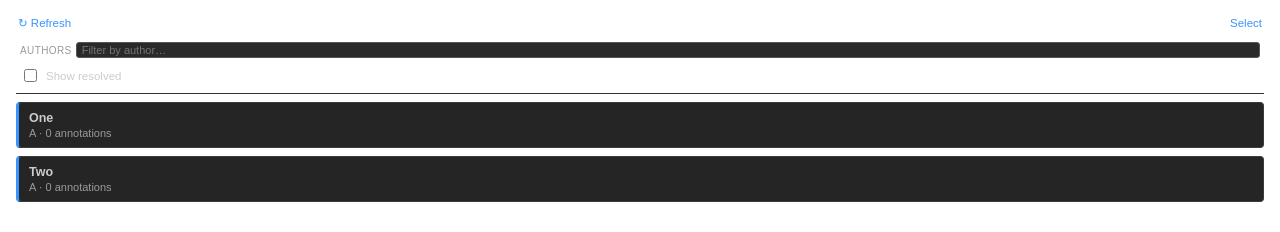
Scenario: App.svelte › enters bulk mode: shows the action bar, checkboxes, and a live count
Click the button with test id "bulk-toggle" at [1246, 23], box [1230,17,1262,29]
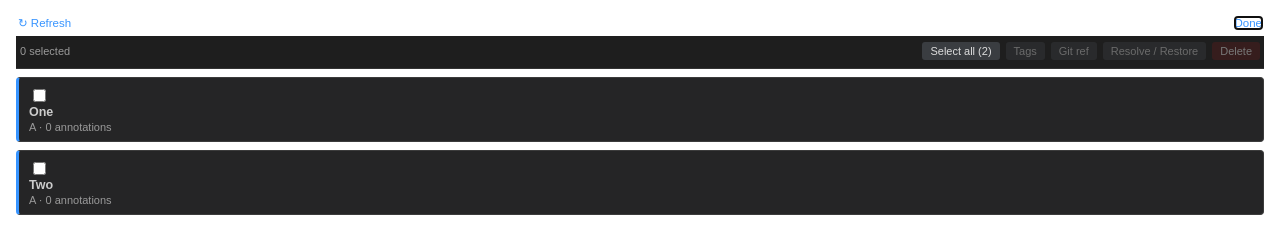
Expected: the element with test id "bulk-action-bar" is shown, [16,36,1264,69]
Expected: the number of checkboxes with test id "bulk-checkbox" is 2, [33,89,46,102]; [33,162,46,175]
Expected: the text with test id "bulk-count" reads "0 selected", [20,45,70,57]
Click the button with test id "group-card" showing "One A · 0 annotations" at [70, 127], box [16,77,1264,142]
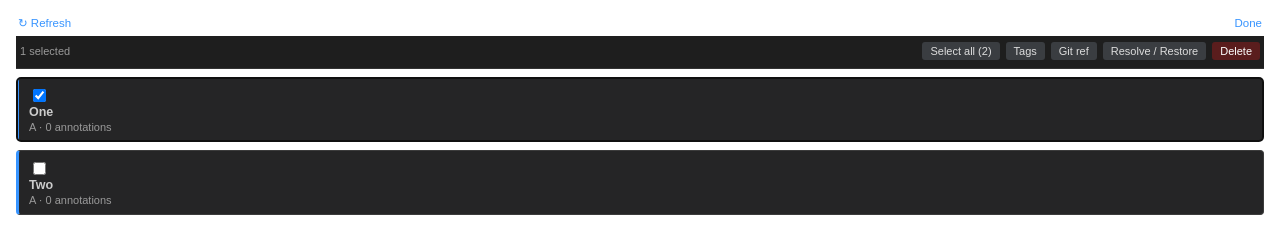
Expected: the text with test id "bulk-count" reads "1 selected", [20,45,70,57]
